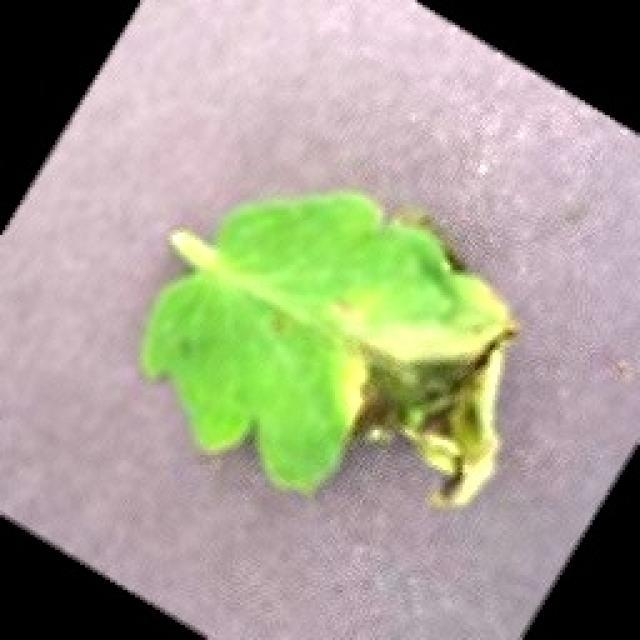leaves: (122, 164, 534, 526)
